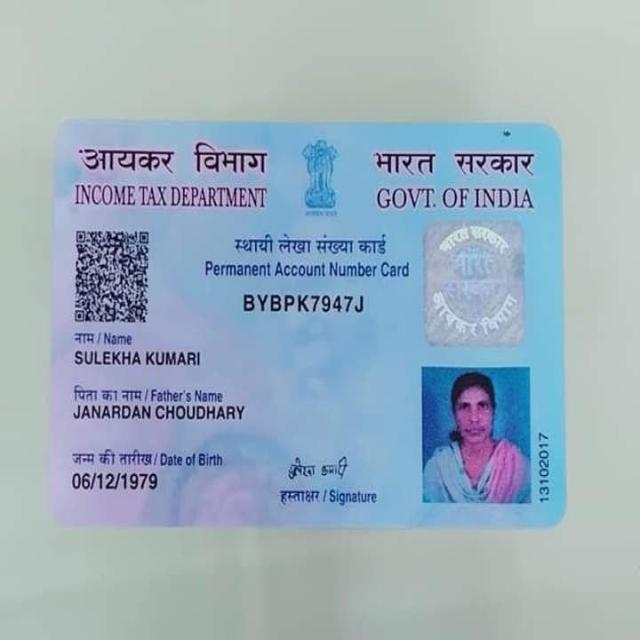pan_card: (50, 124, 564, 524)
